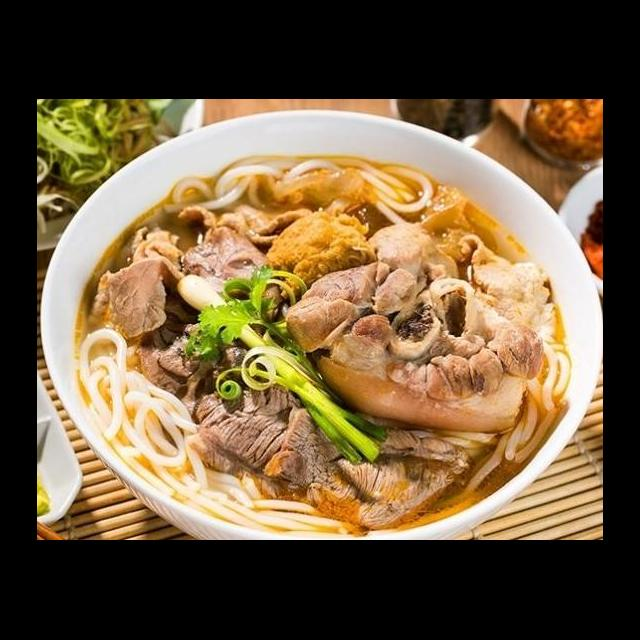bun: (71, 324, 214, 500), (156, 148, 440, 234), (457, 328, 574, 501), (168, 462, 358, 540)
bun bo: (59, 115, 579, 514)
thit bo: (256, 398, 477, 532), (177, 374, 317, 502), (129, 294, 267, 412), (456, 232, 563, 348), (171, 222, 287, 328), (81, 250, 196, 344), (175, 200, 315, 252)
thit heo: (280, 220, 464, 364), (384, 316, 545, 411)
